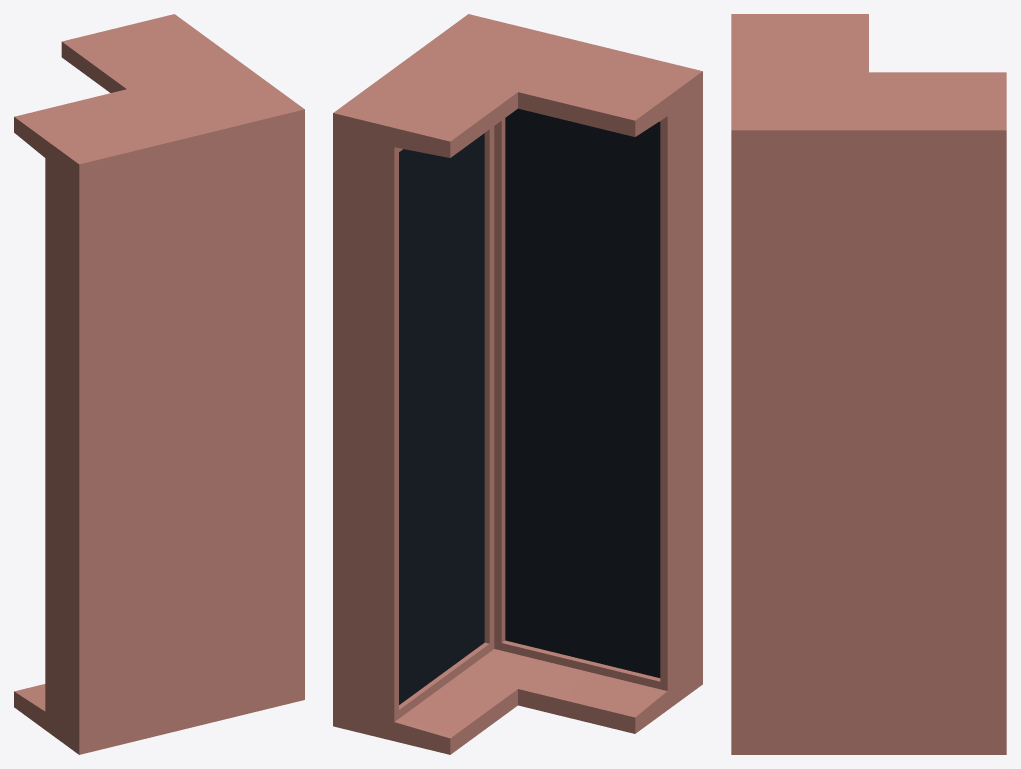
The model's file is BasicWallGlassCornerInner_2x5.fbx.
3 views of the same model, side by side, from view 1: azimuth 30°, elevation 25°; view 2: azimuth 150°, elevation 25°; view 3: azimuth 270°, elevation 25° (orthographic). The views are drawn at different scales.
Visible parts, largest first — view 1: BasicWallGlass1x5CornerInner.006; view 2: BasicWallGlass1x5CornerInner.006; view 3: BasicWallGlass1x5CornerInner.006.
Boxes of the visible parts, box(x1,y1,x2,y2) form: BasicWallGlass1x5CornerInner.006: box(14, 14, 304, 754); BasicWallGlass1x5CornerInner.006: box(333, 14, 702, 754); BasicWallGlass1x5CornerInner.006: box(731, 14, 1006, 754).
Size of the model in its own units: 200 by 500 by 200.
